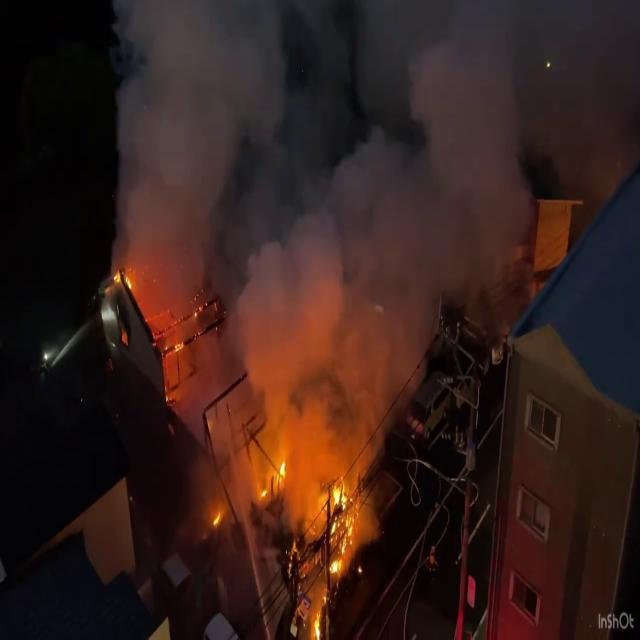Fire: (299, 468, 360, 640)
Smoke: (100, 0, 567, 441)
